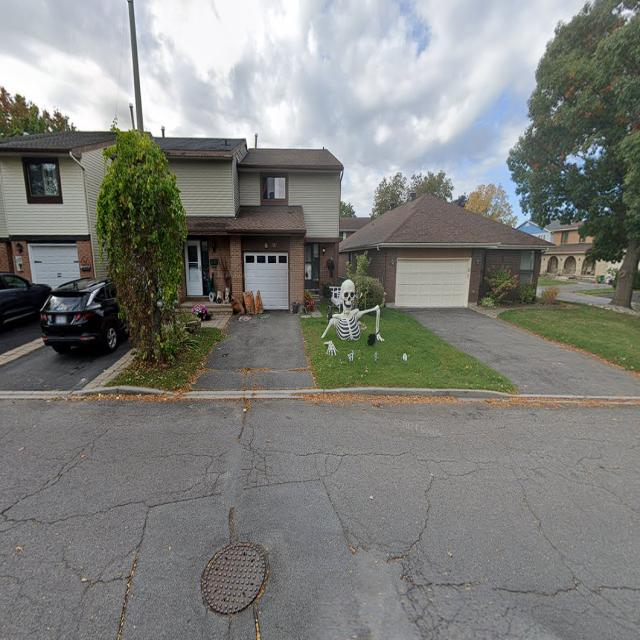Door: (184, 237, 203, 300)
curb: (82, 386, 639, 405)
obstacle: (318, 280, 389, 364)
walkways: (410, 305, 637, 392), (183, 307, 316, 392)
